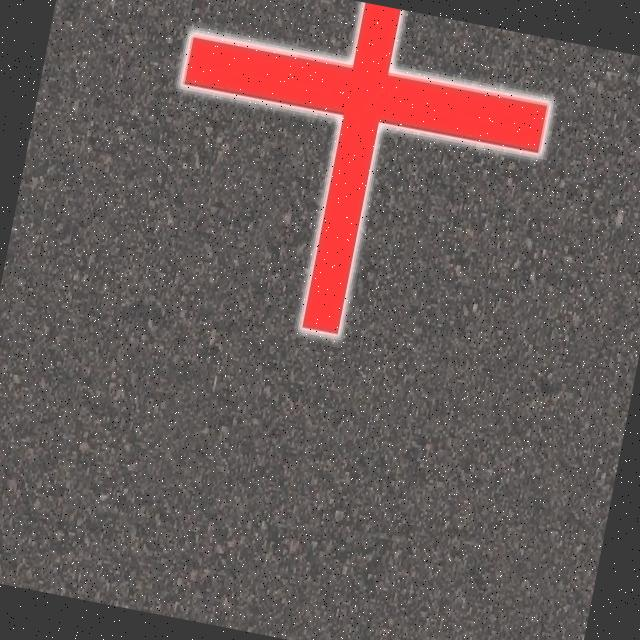x_marker: (140, 0, 560, 365)
